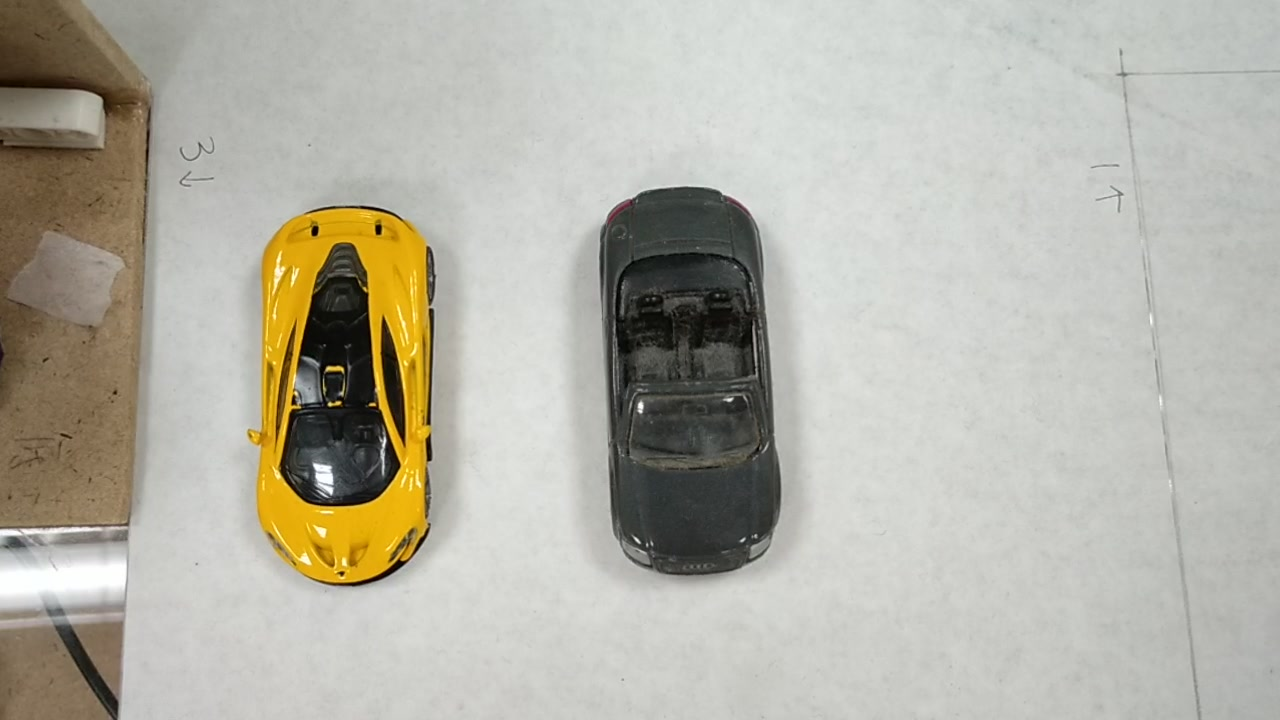car: (603, 188, 768, 575), (250, 209, 430, 553)
